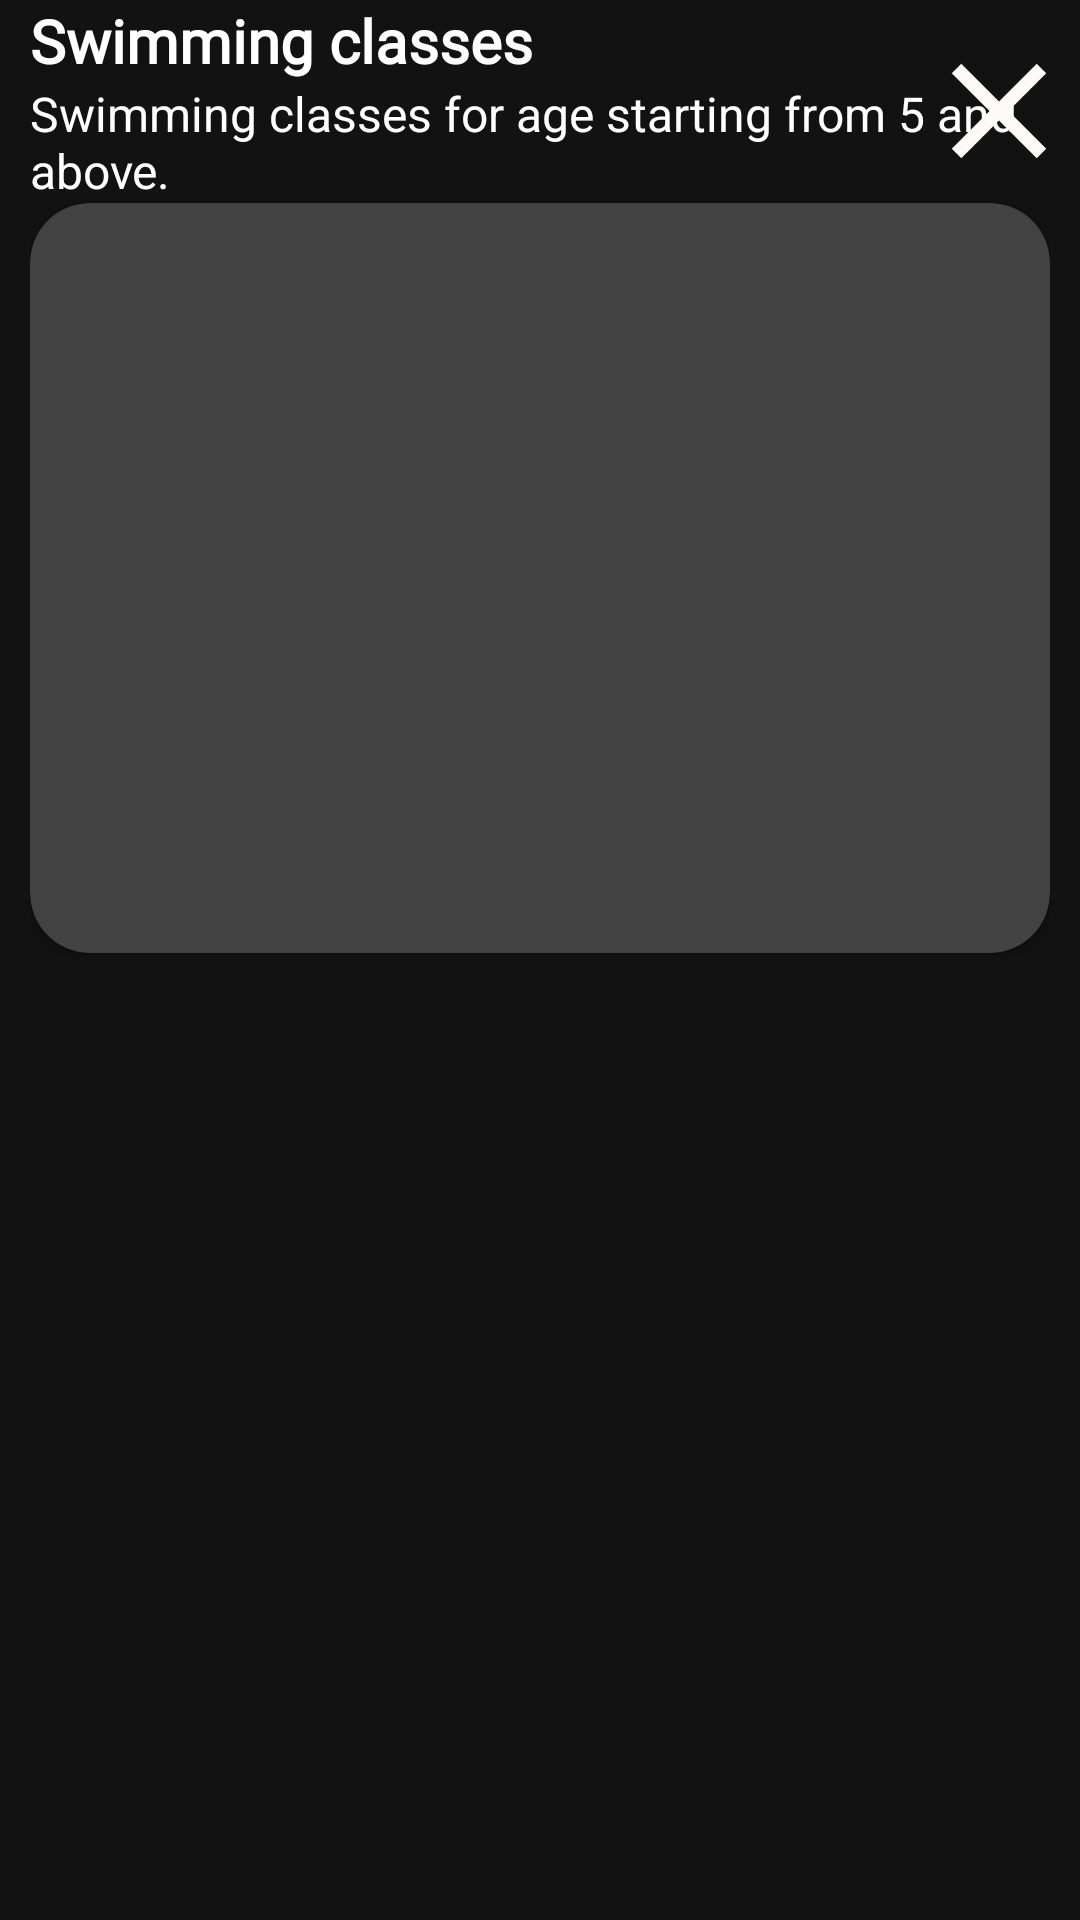

Where to tap for icons on this 1080px×1920px app screen, as [x,y]:
close: [984,111]
